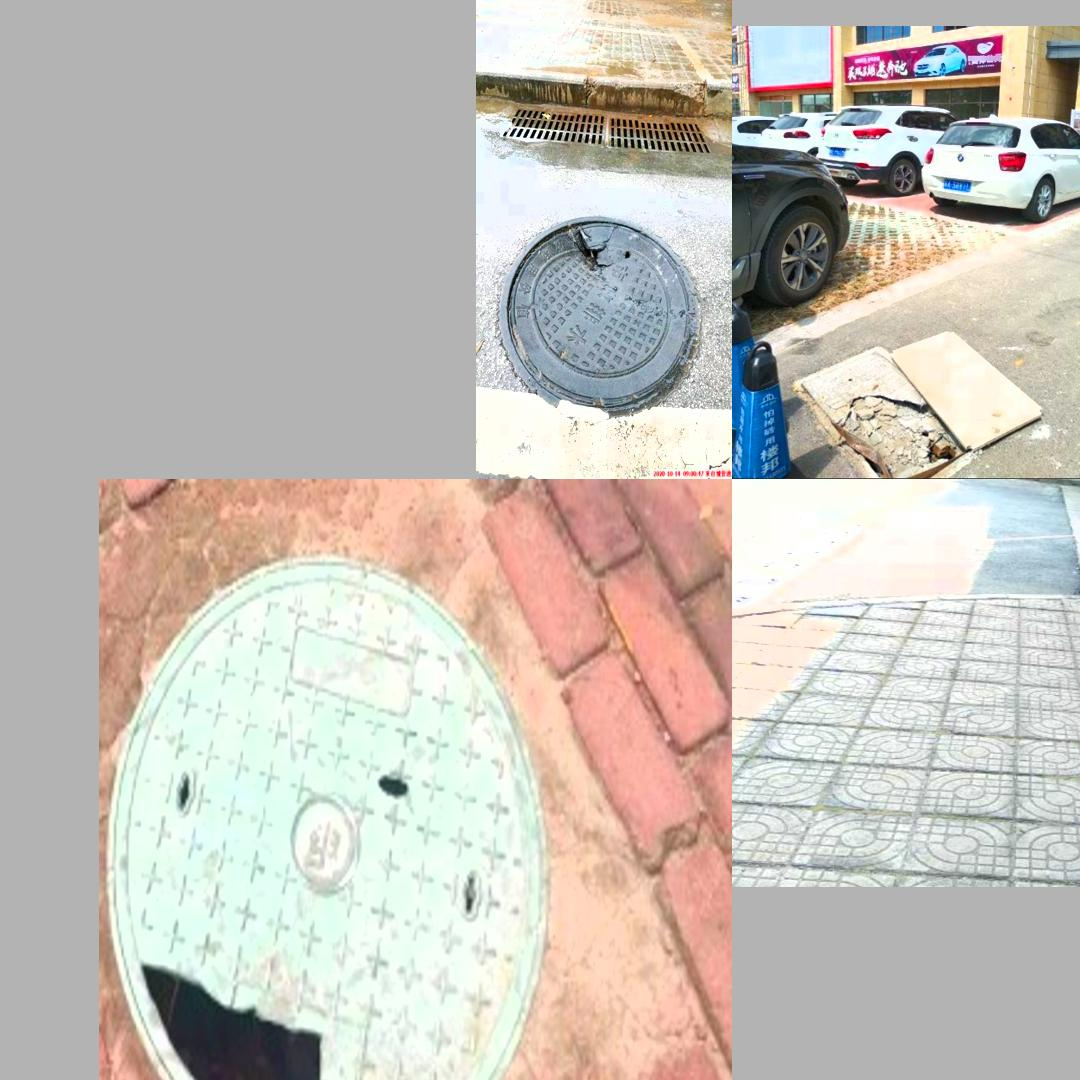broke: (131, 569, 540, 1080), (493, 206, 704, 429), (796, 373, 991, 471)
